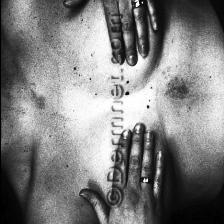Non-Cancerous Skin Condition: (164, 79, 190, 101), (28, 86, 46, 112)
